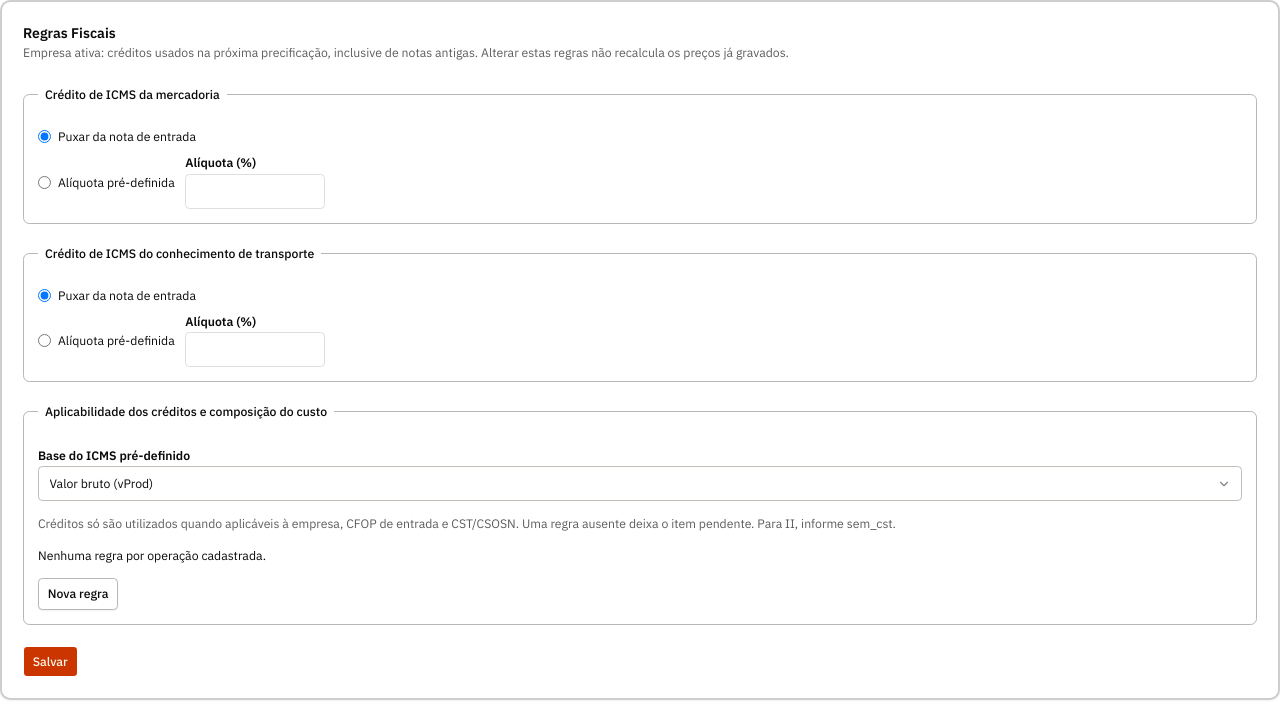
Scenario: Regras Fiscais › falha no salvamento preserva o formulário e alíquota zero é válida
Expected: the button "Salvar" is enabled, [23,646,78,677]
Step 1. Click the 2nd radio button labelled "Alíquota pré-definida" → (44, 341), box [38,334,51,347]
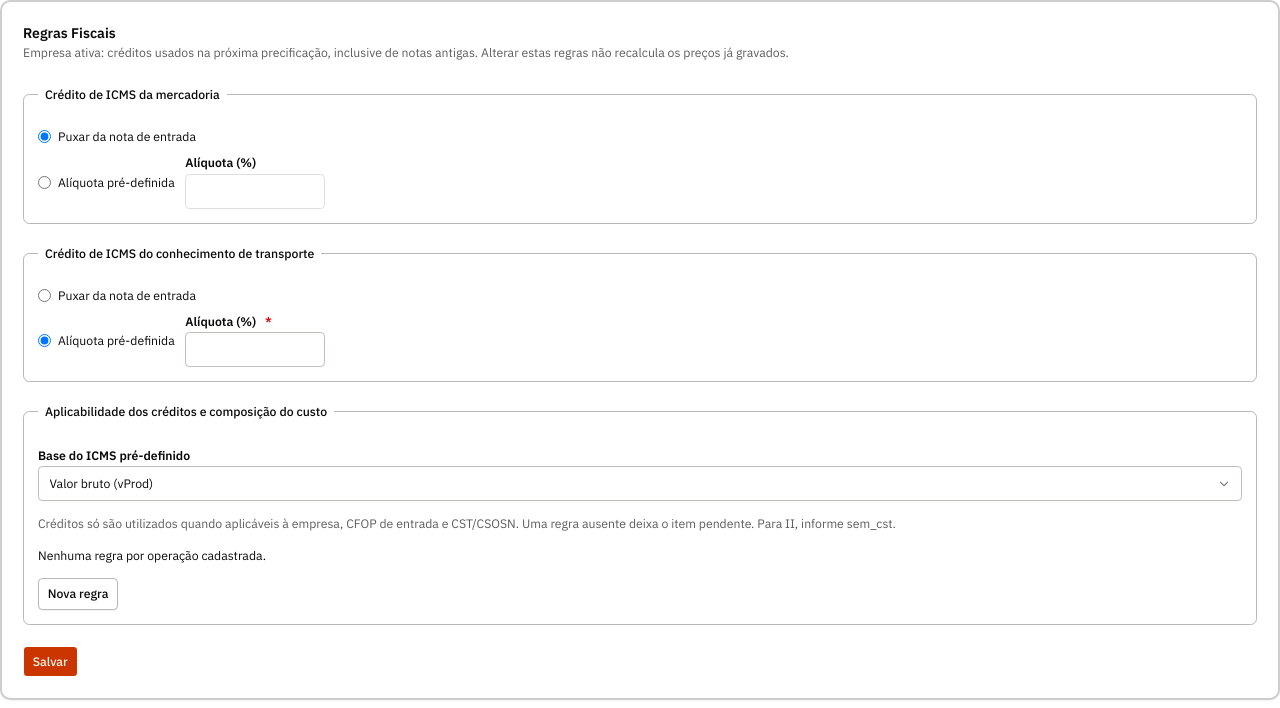
Step 2. Click the button "Salvar" → (50, 661), box [23,646,78,677]
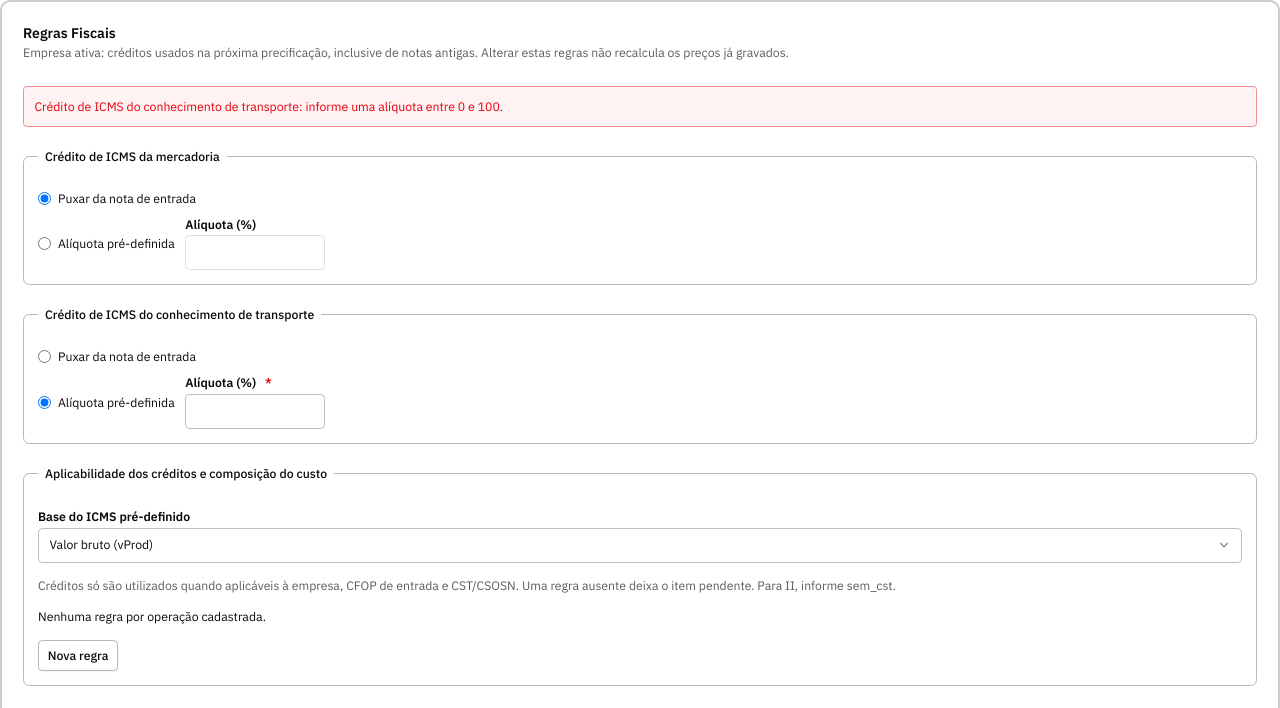
Expected: the message shows "informe uma alíquota", [34,98,503,114]
Step 3. Type "0" into the field labelled "Alíquota (%) *" → (255, 411), box [185,394,325,428]
(page scrolled)
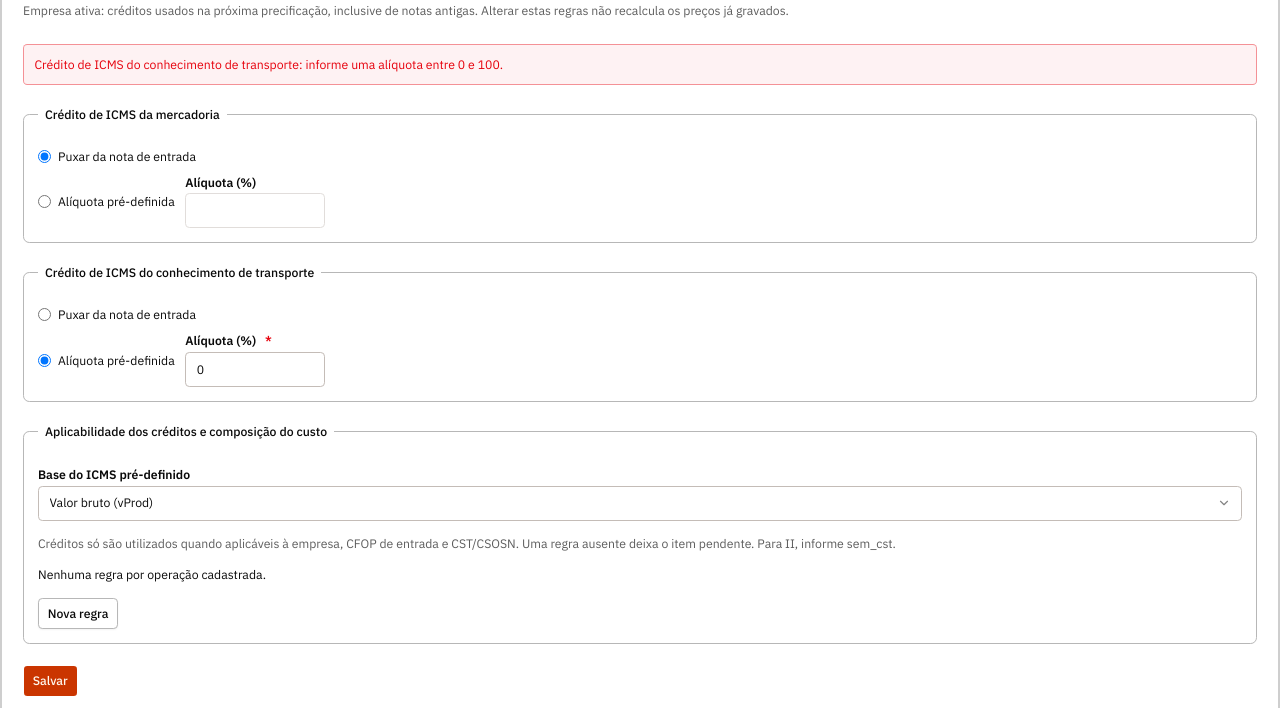
Step 4. Click the button "Salvar" → (50, 681), box [23,665,78,696]
(page scrolled)
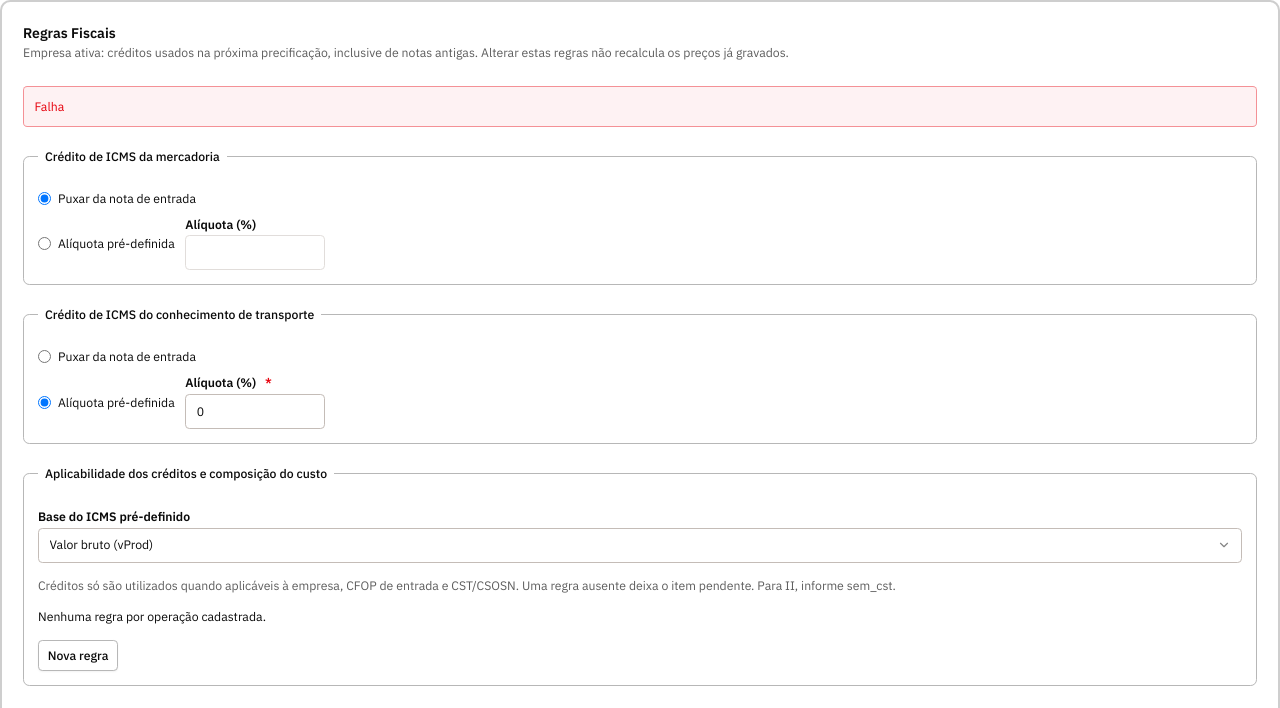
Expected: the 2nd radio button labelled "Alíquota pré-definida" is checked, [38,396,51,409]
Expected: the message reads "Falha", [34,98,64,114]
